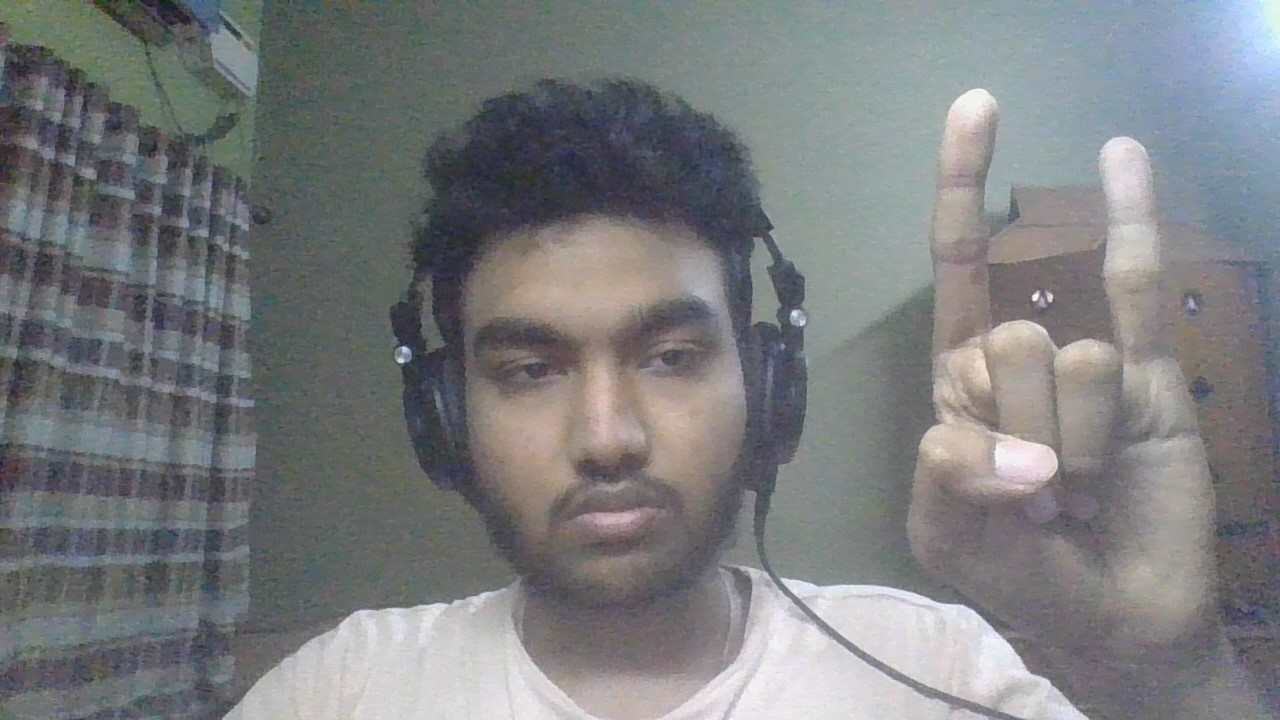Love: (899, 82, 1236, 665)
